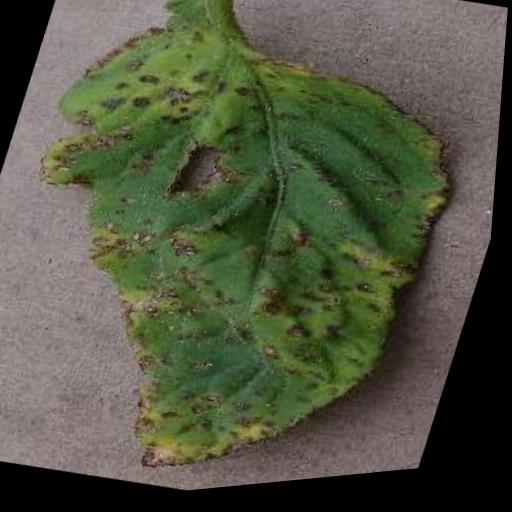Bacterial Spot: (0, 0, 505, 512)
